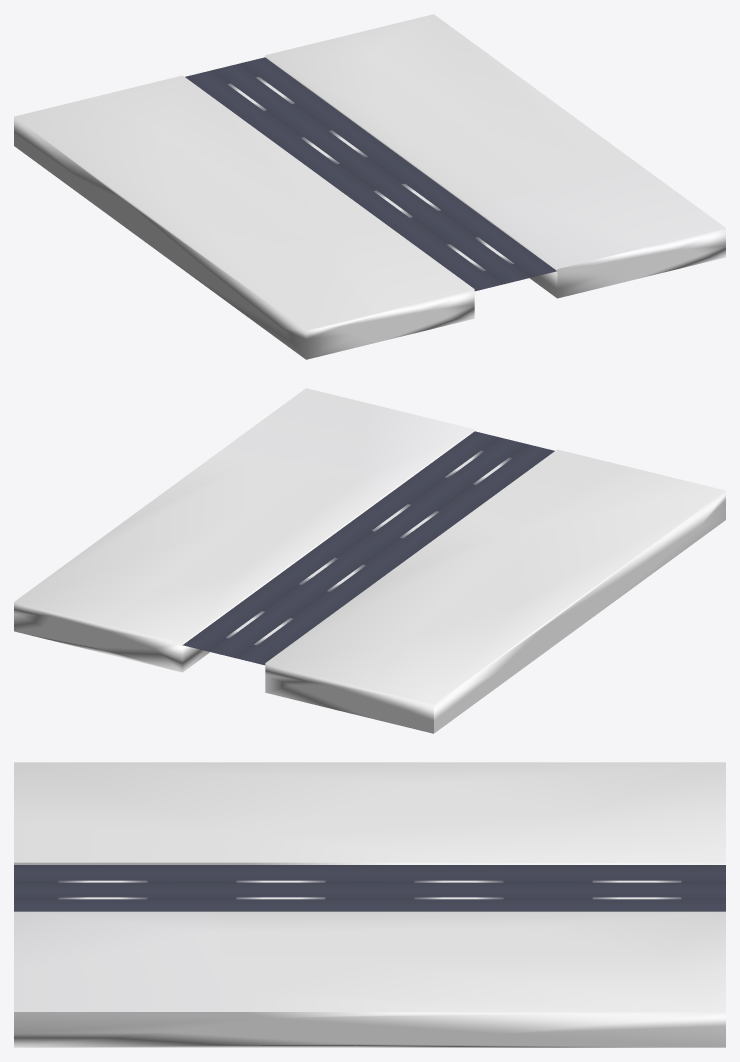
File: Road.fbx
3 renders of one model, top to bottom at view 1: azimuth 30°, elevation 25°; view 2: azimuth 150°, elevation 25°; view 3: azimuth 270°, elevation 25°, orthographic. The views are drawn at different scales.
Parts seen in each view (by area): view 1: Cube.011; view 2: Cube.011; view 3: Cube.011.
Part boxes in pixels (x1,y1,x2,y2): Cube.011: [14, 14, 725, 359]; Cube.011: [14, 388, 725, 733]; Cube.011: [14, 762, 725, 1047].
Bounding box in the file's own units: 4480 × 300 × 5400.
